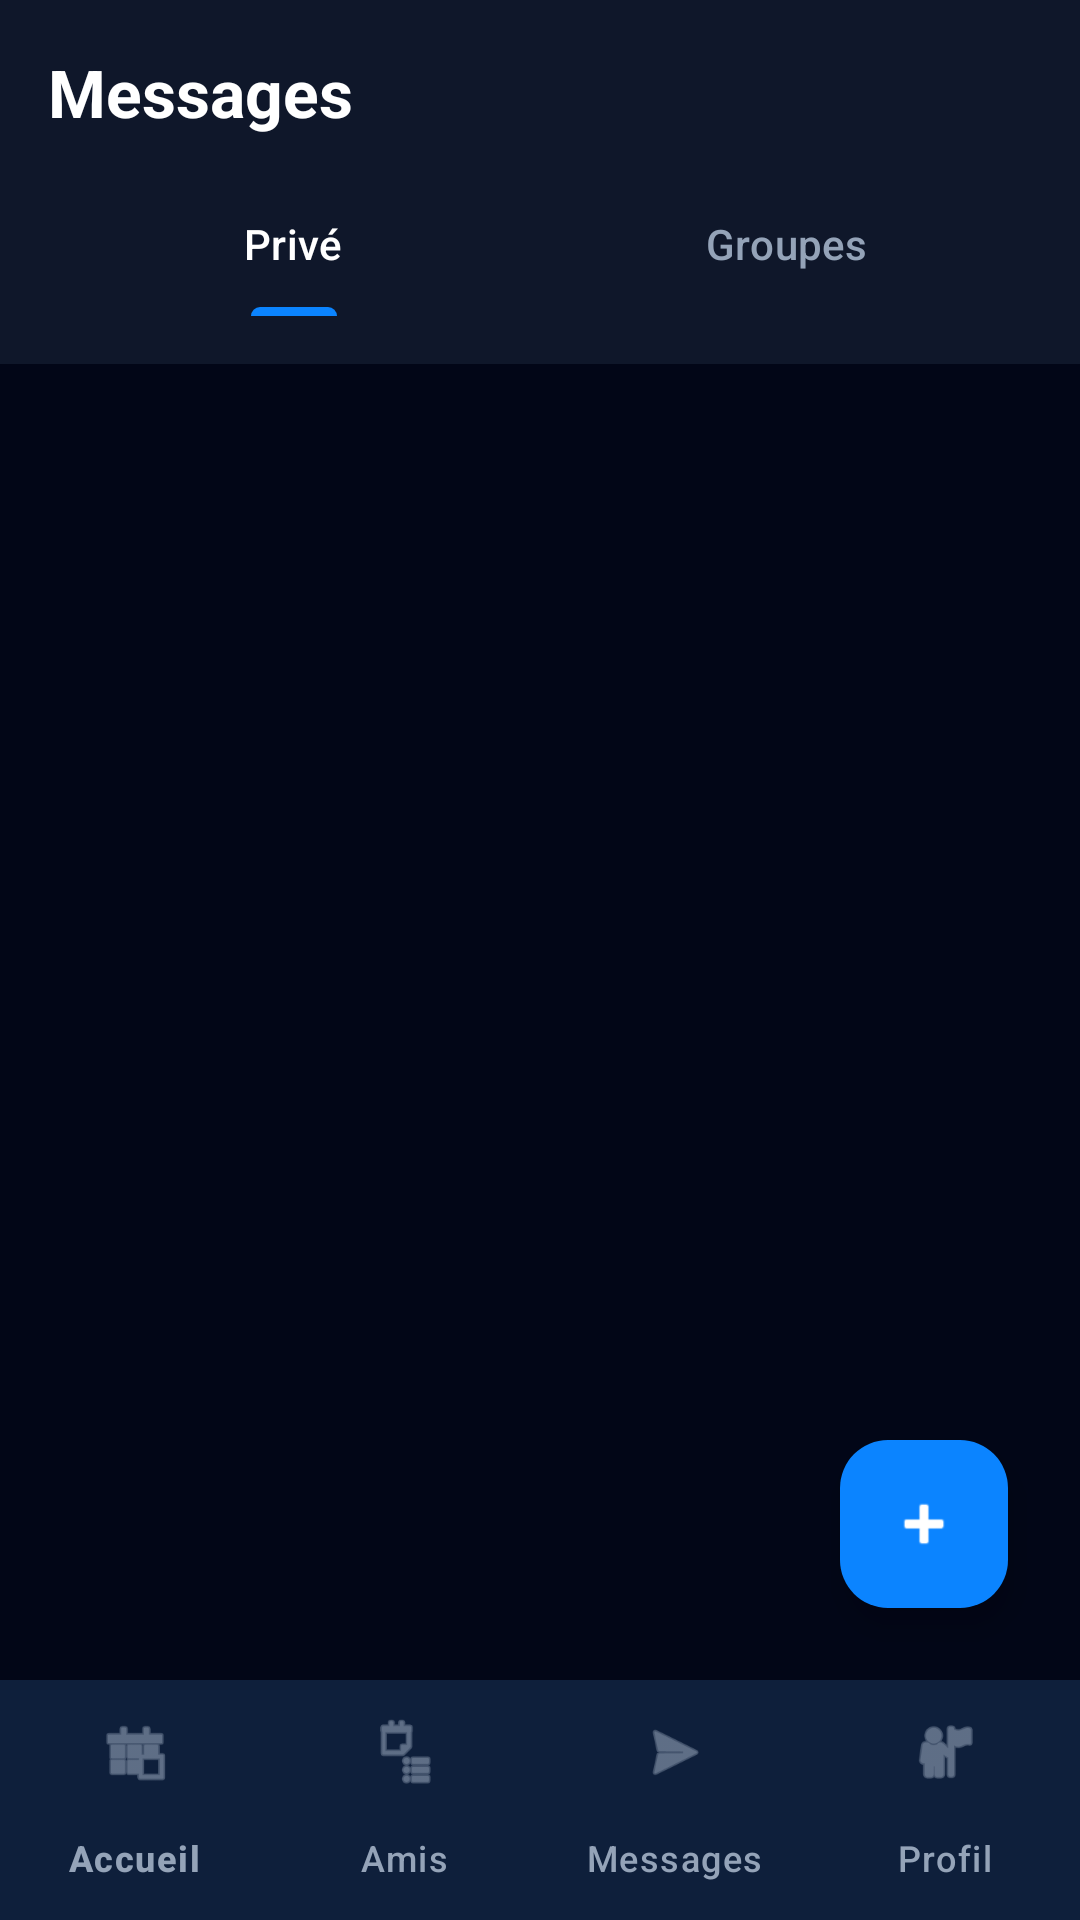

Named icons in this screenshot (1080×1920) and their centers, point (x, y):
add: point (924, 1524)
